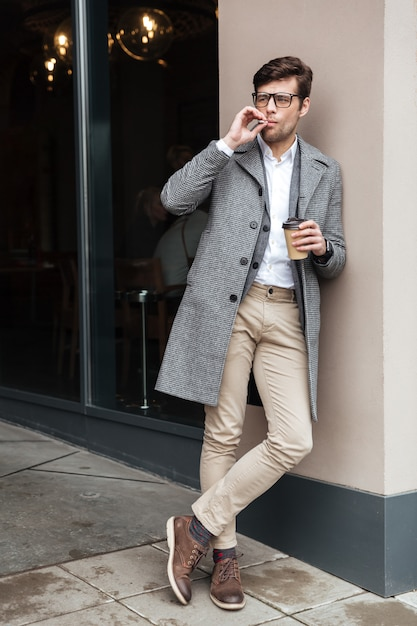cigarette: (257, 118, 268, 123)
